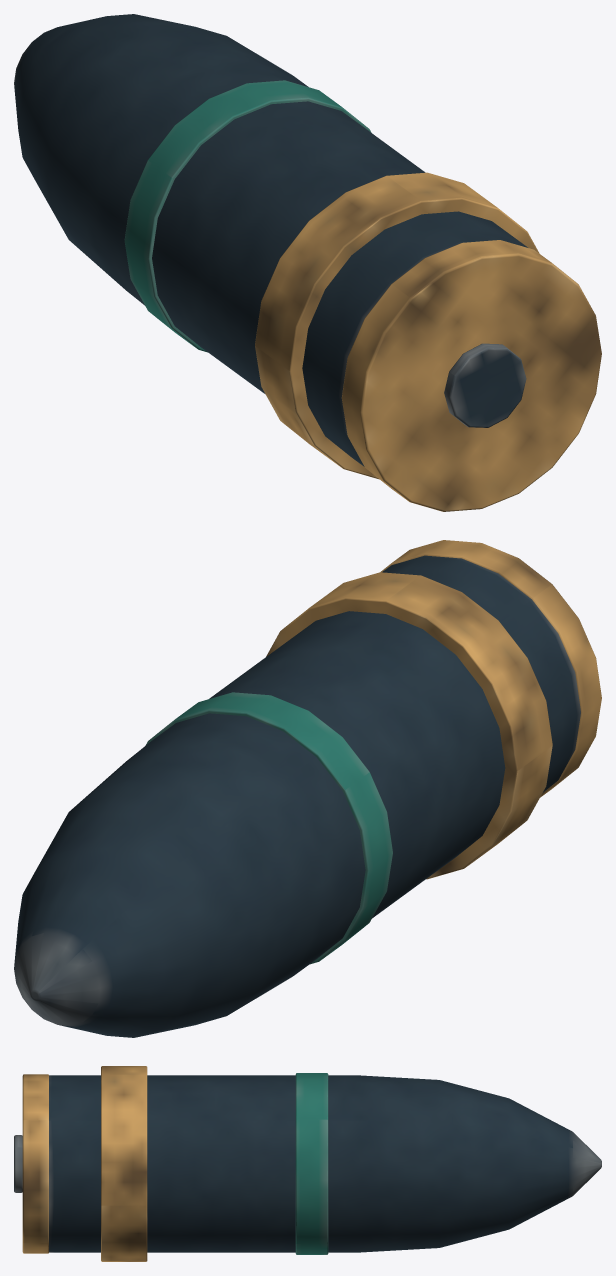
The model's file is naval_shell.glb.
3 renders of one model, top to bottom at view 1: azimuth 30°, elevation 25°; view 2: azimuth 150°, elevation 25°; view 3: azimuth 270°, elevation 25°, orthographic. The views are drawn at different scales.
Parts seen in each view (by area): view 1: v4_naval_shell__ogive_body, v4_naval_shell__base_plate, v4_naval_shell__driving_band, v4_naval_shell__identity_band, v4_naval_shell__base_mark; view 2: v4_naval_shell__ogive_body, v4_naval_shell__driving_band, v4_naval_shell__identity_band, v4_naval_shell__base_plate; view 3: v4_naval_shell__ogive_body, v4_naval_shell__driving_band, v4_naval_shell__identity_band, v4_naval_shell__base_plate, v4_naval_shell__base_mark.
Boxes of the visible parts, x1=… form: v4_naval_shell__ogive_body: x1=14, y1=14, x2=527, y2=466; v4_naval_shell__base_plate: x1=341, y1=240, x2=601, y2=511; v4_naval_shell__driving_band: x1=255, y1=172, x2=539, y2=479; v4_naval_shell__identity_band: x1=124, y1=80, x2=371, y2=352; v4_naval_shell__base_mark: x1=444, y1=343, x2=526, y2=427; v4_naval_shell__ogive_body: x1=14, y1=555, x2=580, y2=1037; v4_naval_shell__driving_band: x1=266, y1=572, x2=552, y2=879; v4_naval_shell__identity_band: x1=145, y1=692, x2=392, y2=964; v4_naval_shell__base_plate: x1=380, y1=540, x2=601, y2=797; v4_naval_shell__ogive_body: x1=49, y1=1075, x2=601, y2=1252; v4_naval_shell__driving_band: x1=101, y1=1066, x2=147, y2=1261; v4_naval_shell__identity_band: x1=295, y1=1073, x2=328, y2=1254; v4_naval_shell__base_plate: x1=22, y1=1074, x2=48, y2=1253; v4_naval_shell__base_mark: x1=14, y1=1135, x2=22, y2=1192.
Bounding box in the file's own units: 0.17 × 0.17 × 0.507.
1 material, 1 textured.
